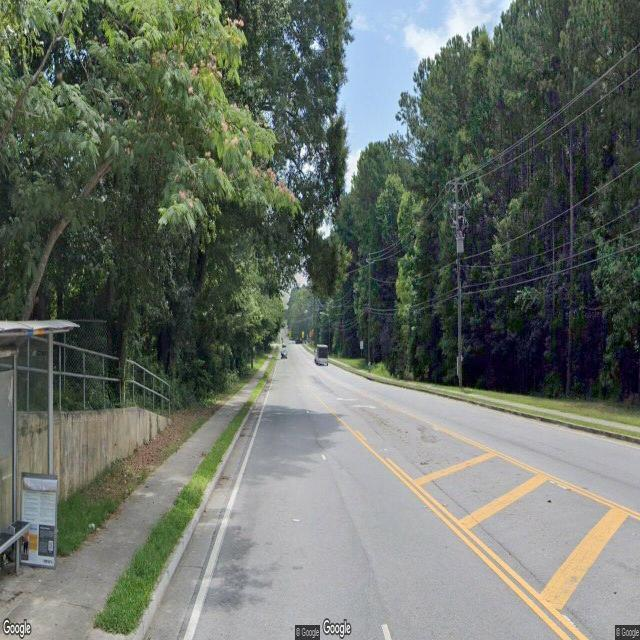seating: (0, 520, 26, 590)
shelter: (0, 318, 81, 614)
